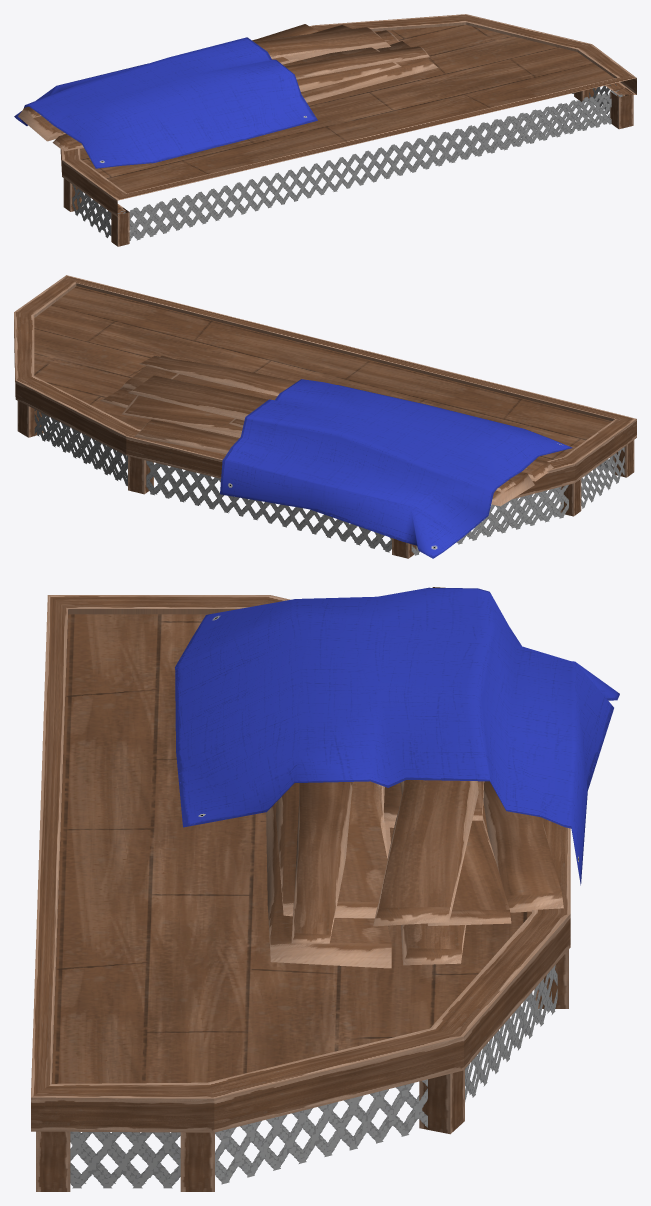
File: SM_JoinPlatform_01.fbx
3 renders of one model, top to bottom at view 1: azimuth 30°, elevation 25°; view 2: azimuth 150°, elevation 25°; view 3: azimuth 270°, elevation 25°, orthographic. The views are drawn at different scales.
Visible parts, largest first — view 1: SM_JoinPlatform_01; view 2: SM_JoinPlatform_01; view 3: SM_JoinPlatform_01.
Boxes of the visible parts, x1,y1,x2,y2 form: SM_JoinPlatform_01: (14, 14, 636, 246); SM_JoinPlatform_01: (14, 275, 636, 558); SM_JoinPlatform_01: (31, 587, 619, 1191).
Size of the model in its own units: 1238 by 172 by 612.
